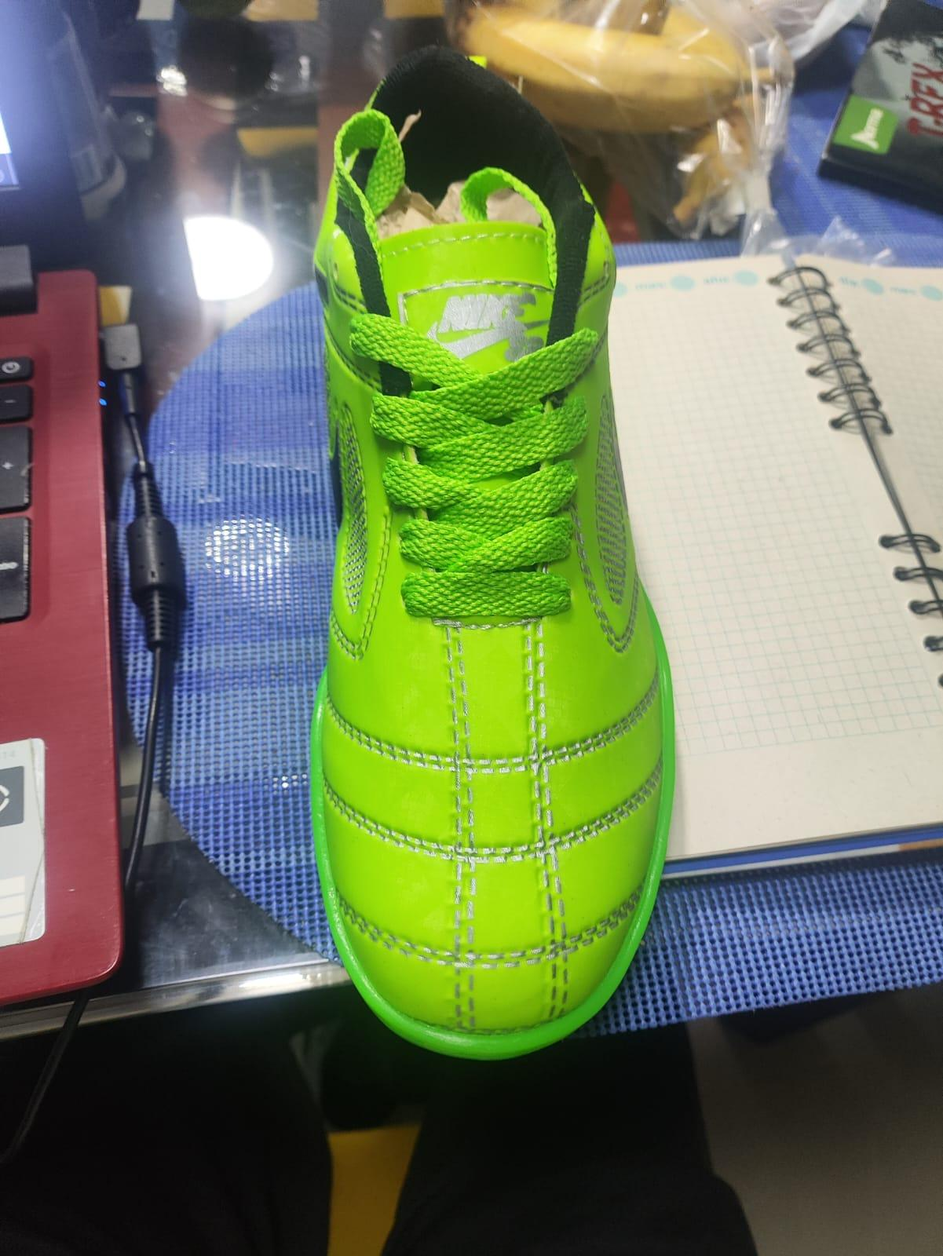marca: (392, 270, 558, 388)
shoe: (312, 49, 673, 1060)
